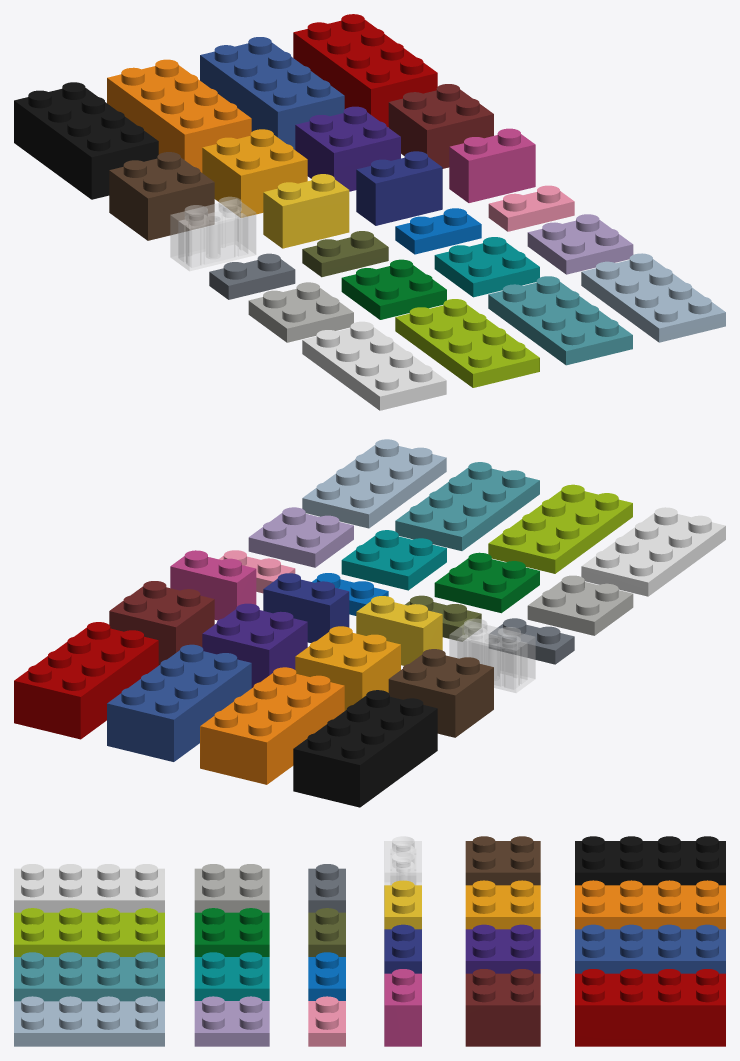
Rendered from robot.glb.
3 views of the same model, one above another, from view 1: azimuth 30°, elevation 25°; view 2: azimuth 150°, elevation 25°; view 3: azimuth 270°, elevation 25° (orthographic). The views are drawn at different scales.
Visible parts, largest first — view 1: Brick_2x4_Black, Brick_2x4_Red, Brick_2x4_Orange, Brick_2x4_Dark_Blue, Plane_2x4_Baby_Turquoise, Plane_2x4_White, Plane_2x4_Baby_Blue, Plane_2x4_Lime, Brick_2x2_Brown, Brick_2x2_Dark_Yellow, Brick_2x2_Purple, Brick_2x2_Dark_Red (+12 smaller); view 2: Brick_2x4_Black, Brick_2x4_Orange, Brick_2x4_Dark_Blue, Brick_2x4_Red, Plane_2x4_Baby_Turquoise, Plane_2x4_Baby_Blue, Plane_2x4_White, Plane_2x4_Lime, Brick_2x2_Brown, Brick_2x2_Purple, Brick_2x2_Dark_Red, Brick_2x2_Dark_Yellow (+12 smaller); view 3: Brick_2x4_Red, Plane_2x4_Baby_Blue, Plane_2x4_Baby_Turquoise, Plane_2x4_Lime, Brick_2x4_Black, Brick_2x4_Dark_Blue, Brick_2x4_Orange, Plane_2x4_White, Brick_2x2_Dark_Red, Plane_2x2_Baby_Violet, Plane_2x2_Green, Brick_2x2_Dark_Yellow (+12 smaller).
Boxes of the visible parts, x1,y1,x2,y2 form: Brick_2x4_Black: [14, 82, 158, 199]; Brick_2x4_Red: [293, 14, 437, 127]; Brick_2x4_Orange: [107, 59, 251, 172]; Brick_2x4_Dark_Blue: [200, 37, 344, 149]; Plane_2x4_Baby_Turquoise: [488, 276, 632, 365]; Plane_2x4_White: [302, 321, 446, 410]; Plane_2x4_Baby_Blue: [581, 253, 725, 342]; Plane_2x4_Lime: [395, 299, 539, 387]; Brick_2x2_Brown: [109, 152, 214, 240]; Brick_2x2_Dark_Yellow: [202, 129, 307, 217]; Brick_2x2_Purple: [295, 106, 400, 191]; Brick_2x2_Dark_Red: [388, 84, 493, 168]; Brick_2x4_Black: [293, 690, 437, 807]; Brick_2x4_Orange: [200, 667, 344, 784]; Brick_2x4_Dark_Blue: [107, 644, 251, 761]; Brick_2x4_Red: [14, 622, 158, 739]; Plane_2x4_Baby_Turquoise: [395, 462, 539, 550]; Plane_2x4_Baby_Blue: [302, 439, 446, 528]; Plane_2x4_White: [581, 507, 725, 596]; Plane_2x4_Lime: [488, 484, 632, 573]; Brick_2x2_Brown: [388, 649, 493, 737]; Brick_2x2_Purple: [202, 603, 307, 687]; Brick_2x2_Dark_Red: [109, 581, 214, 665]; Brick_2x2_Dark_Yellow: [295, 626, 400, 710]; Brick_2x4_Red: [575, 969, 725, 1046]; Plane_2x4_Baby_Blue: [14, 996, 164, 1046]; Plane_2x4_Baby_Turquoise: [14, 952, 164, 1001]; Plane_2x4_Lime: [14, 908, 164, 956]; Brick_2x4_Black: [575, 836, 725, 885]; Brick_2x4_Dark_Blue: [575, 924, 725, 973]; Brick_2x4_Orange: [575, 880, 725, 929]; Plane_2x4_White: [14, 864, 164, 912]; Brick_2x2_Dark_Red: [465, 969, 540, 1046]; Plane_2x2_Baby_Violet: [194, 996, 269, 1046]; Plane_2x2_Green: [194, 908, 269, 956]; Brick_2x2_Dark_Yellow: [465, 880, 540, 929].
Size of the model in its own units: 0.0818 by 0.0114 by 0.1498.
